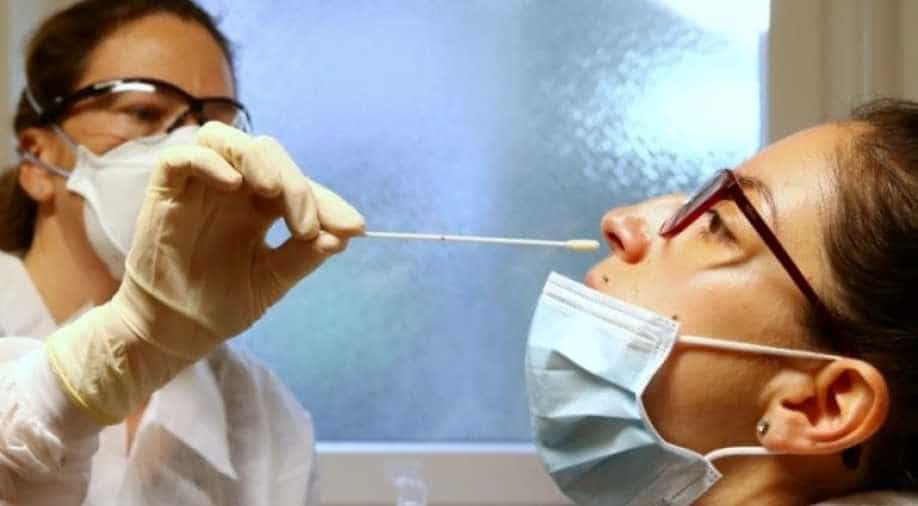Gloves: (36, 117, 373, 424)
mask_weared_incorrect: (523, 161, 763, 506)
with_mask: (66, 77, 259, 283)
